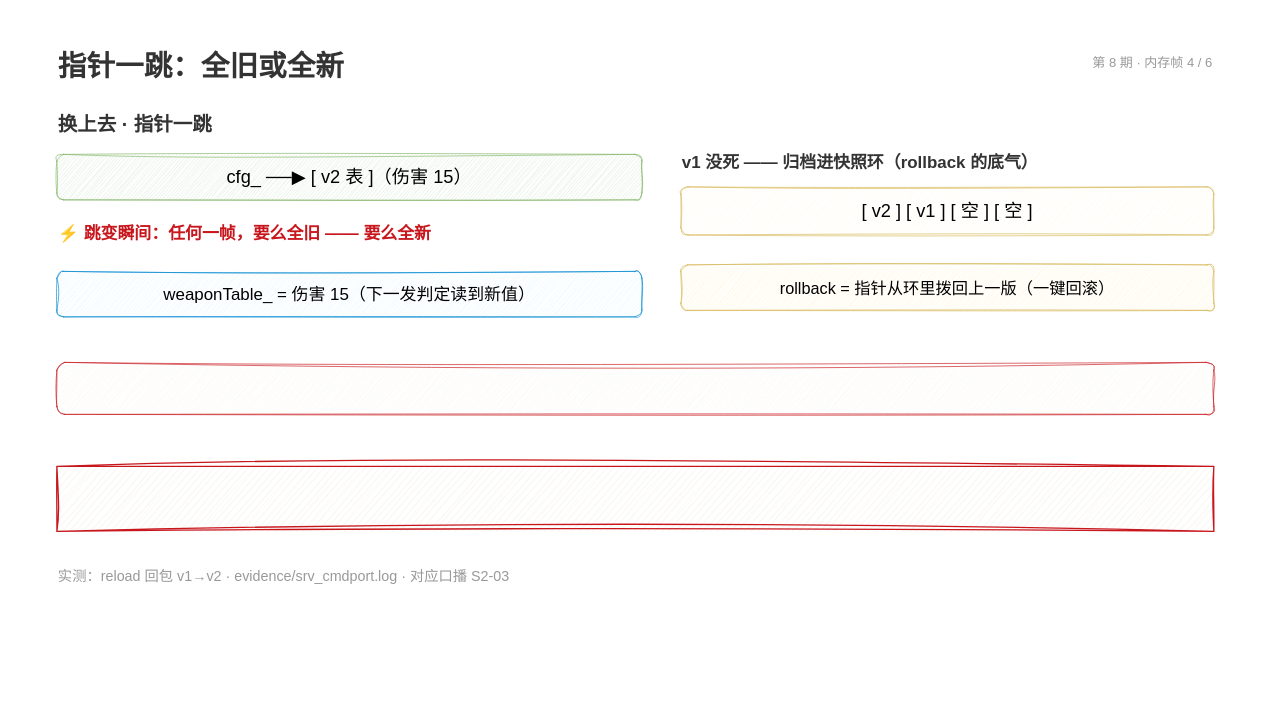
Image size: 1270x724. Some labels were removed from this diagram. The shapes that lost their labels are listed below. From the top down, each one's box as (x1, y1, x2, y2) in pixels, then its label:
(56, 362, 1214, 414): 同一跳变同时广播 30 号 → 客户端 RuntimeParams 刷新 → 飘字 25→15
(56, 465, 1214, 532): 原子切换 —— 没有「改到一半」的中间态
